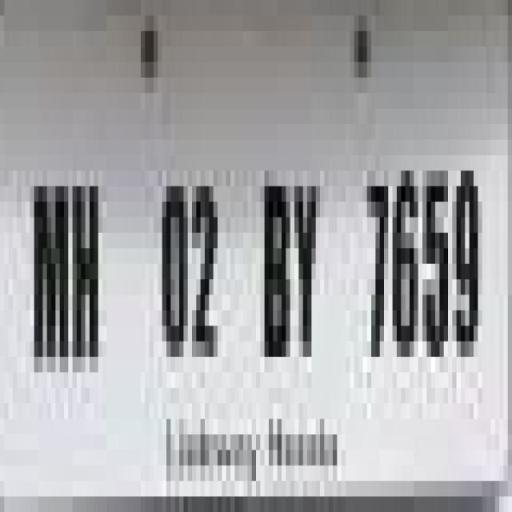number plate: (6, 0, 510, 496)
